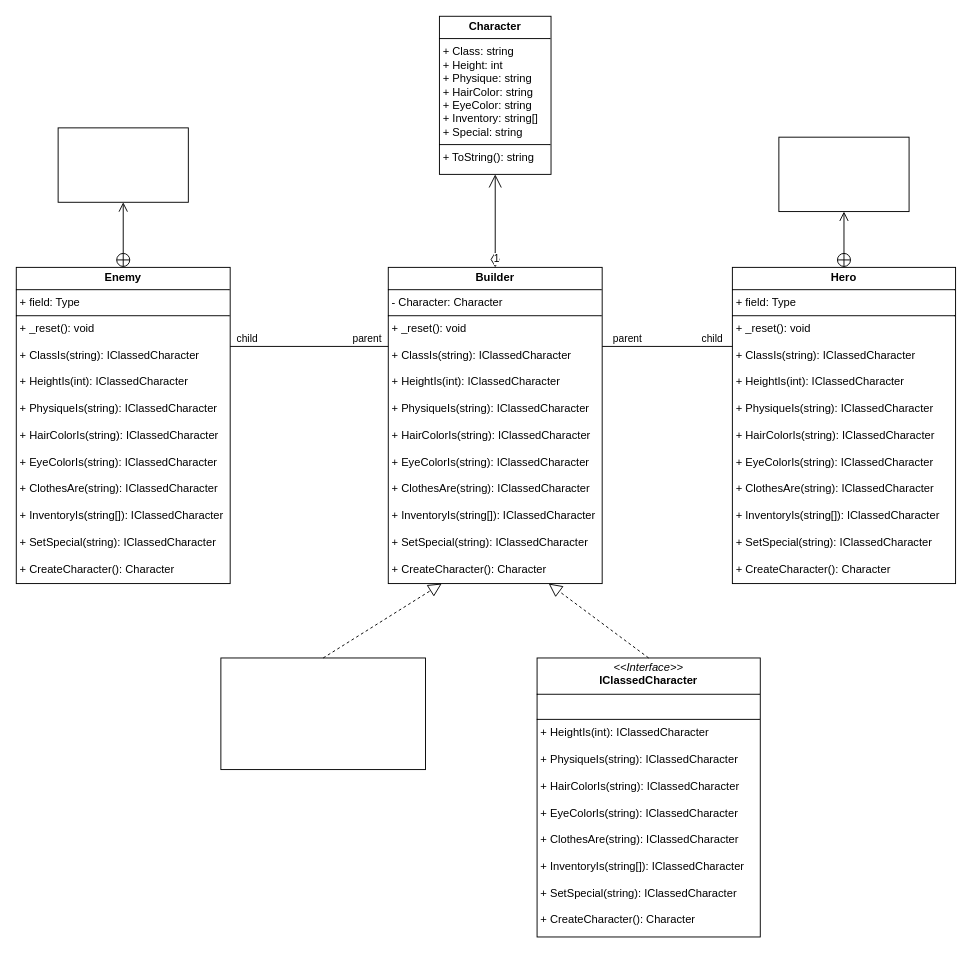
This 972x953 diagram has some shape labels left out. The shapes that lost their labels are listed below. From the top down, each one's centre as x and y in pixels, then its label:
At point 122,164: "EnemyBuilder - Enemy + Create(): ICharacter".
At point 843,174: "HeroBuilder - Hero + Create(): ICharacter".
At point 322,713: "<<Interface>> ICharacter + ClassIs(string): IClassedCharacter".
